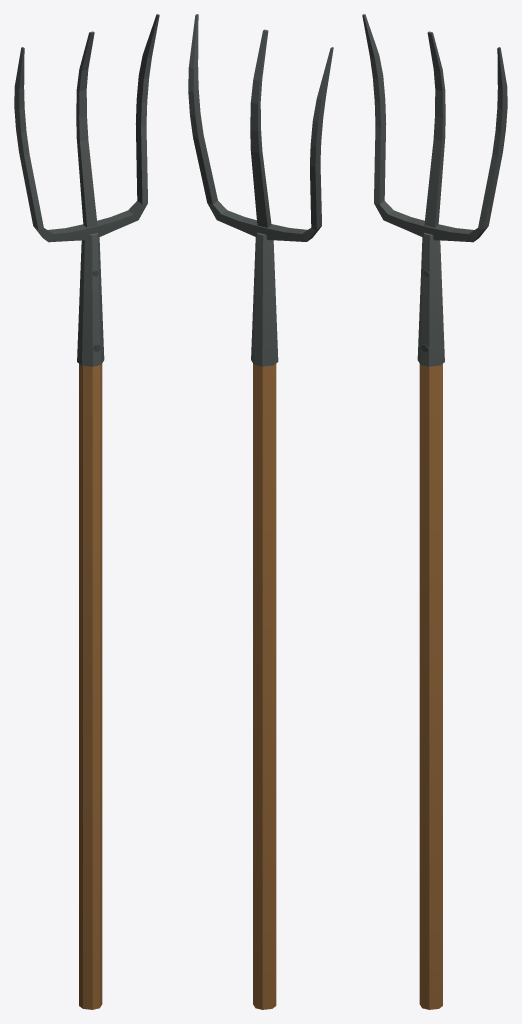
The model's file is Tool_Pitchfork_02.obj.
3 renders of one model, left to right at view 1: azimuth 30°, elevation 25°; view 2: azimuth 150°, elevation 25°; view 3: azimuth 330°, elevation 25°, orthographic.
Parts seen in each view (by area): view 1: Tool_Pitchfork_02; view 2: Tool_Pitchfork_02; view 3: Tool_Pitchfork_02.
Part boxes in pixels (x1,y1,x2,y2): Tool_Pitchfork_02: (14,14,159,1009); Tool_Pitchfork_02: (188,14,333,1009); Tool_Pitchfork_02: (362,14,507,1009).
Size of the model in its own units: 0.2648 by 1.8 by 0.0617.
1 material, 1 textured.
